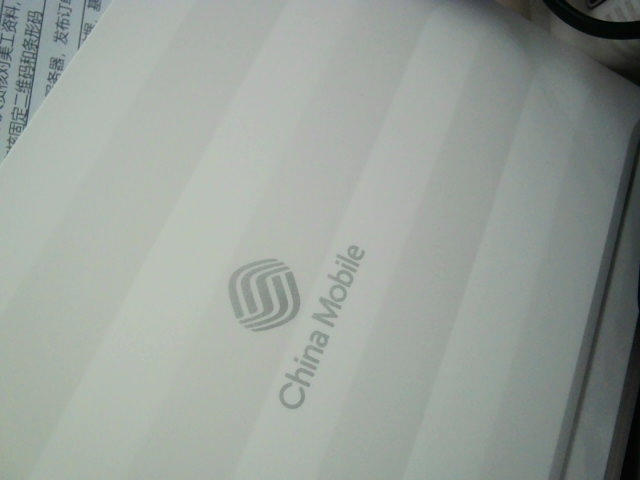AA_ChinaMobile: (208, 227, 386, 412)
